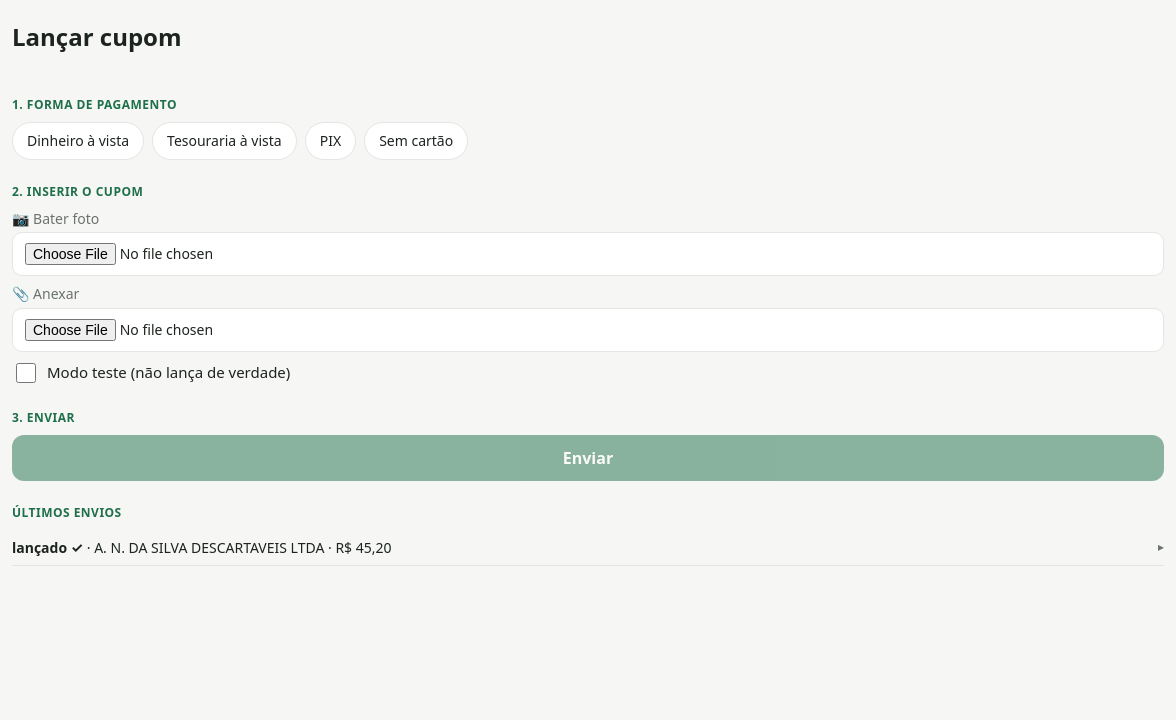
Test: Cupom — aviso de CNPJ lido errado no detalhe do cupom › o aviso fica DENTRO do detalhe: fechado não aparece (cupom lançado), abrir mostra, fechar de novo esconde
What coordinates should you click on to do the following:
click the button "lançado ✓ · A. N. DA SILVA DESCARTAVEIS LTDA · R$ 45,20 ▸"
I would click on:
 (48, 547)
Its box is [12,530,1164,565].
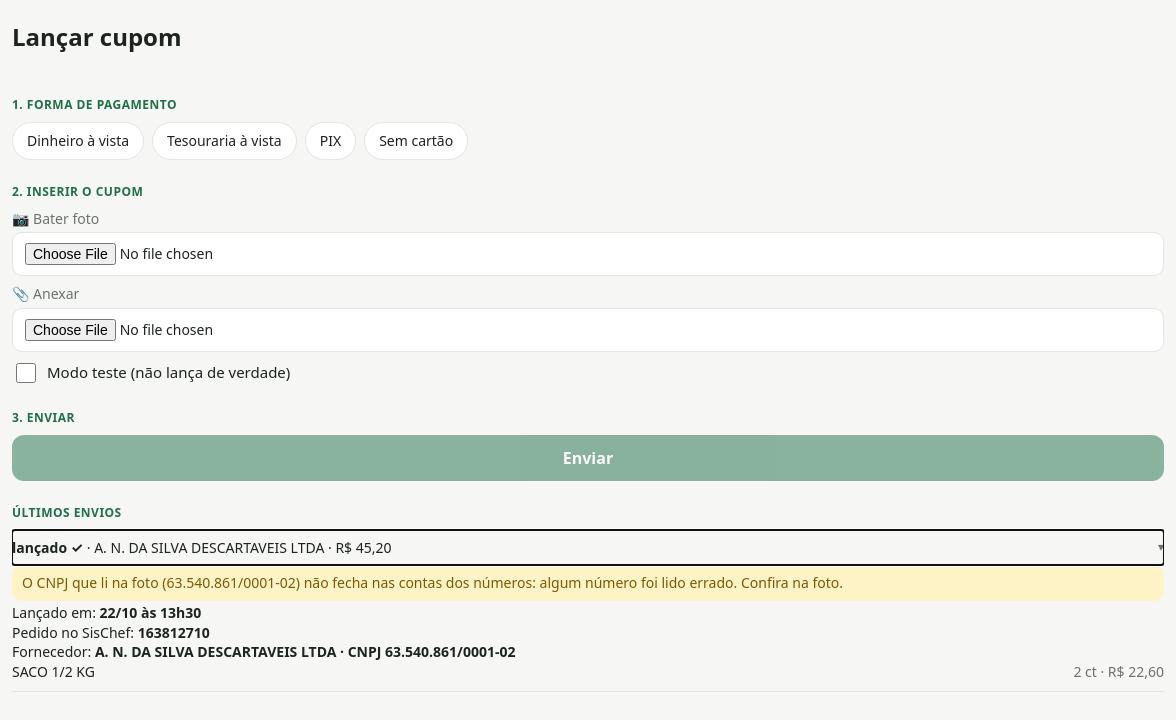
Result: the text with test id "cnpj-suspeito" is shown at [12,565,1164,601]
What coordinates should you click on to do the following:
click the button "lançado ✓ · A. N. DA SILVA DESCARTAVEIS LTDA · R$ 45,20 ▾"
I would click on:
 (48, 547)
Its box is [12,530,1164,565].
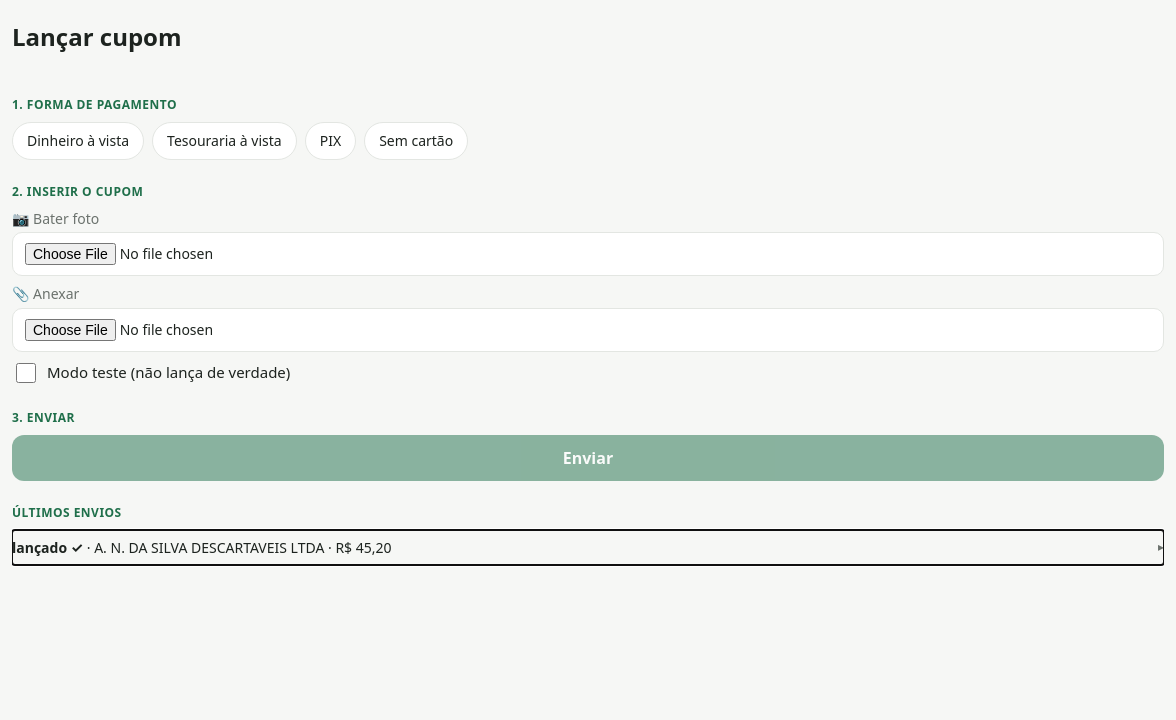
Result: the text with test id "cnpj-suspeito" is gone
